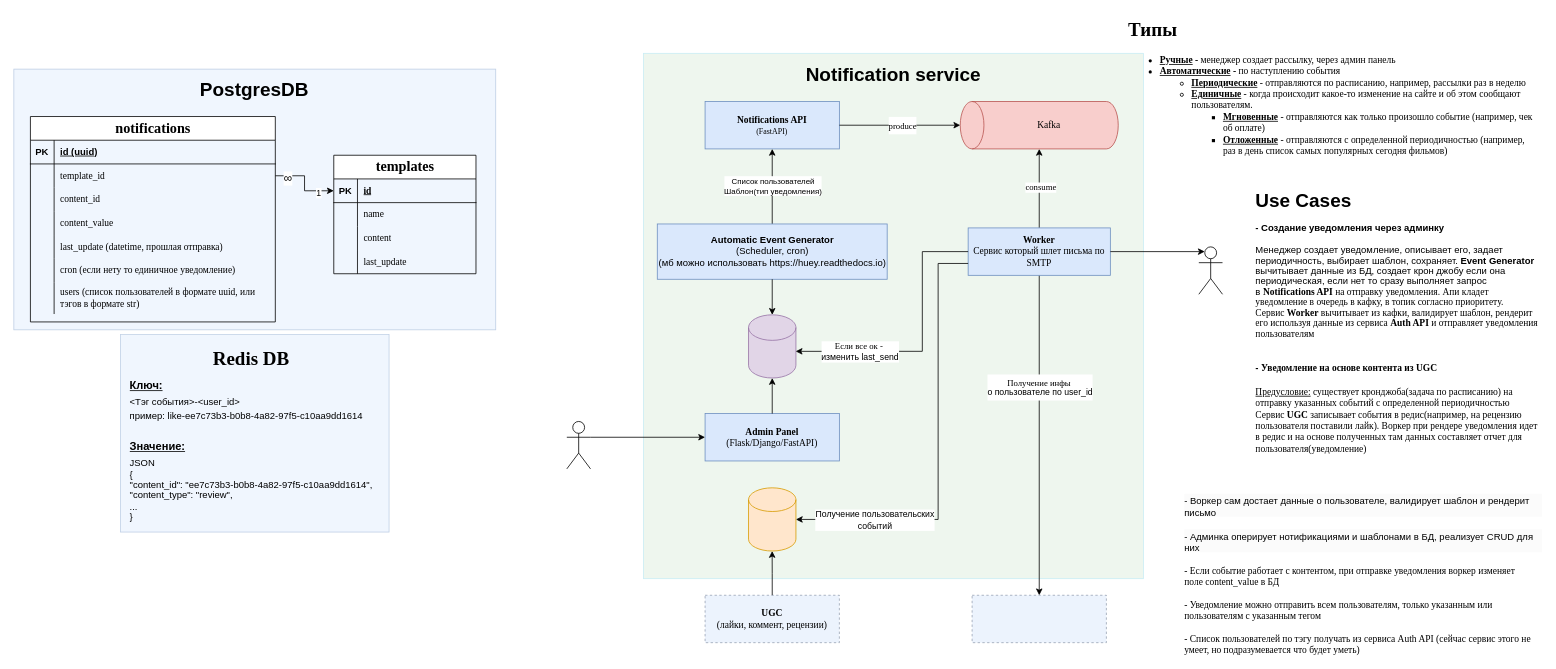
This 1556x669 diagram has some shape labels left out. Here are the shapes that lost their labels. From the top down, the centre of each, then its label:
At pixel 1210 270: "Пользователи".
At pixel 772 346: "Postgres".
At pixel 578 445: "Manager".
At pixel 772 519: "REDIS".
At pixel 1038 618: "Auth API (из прошлого спринта)".
